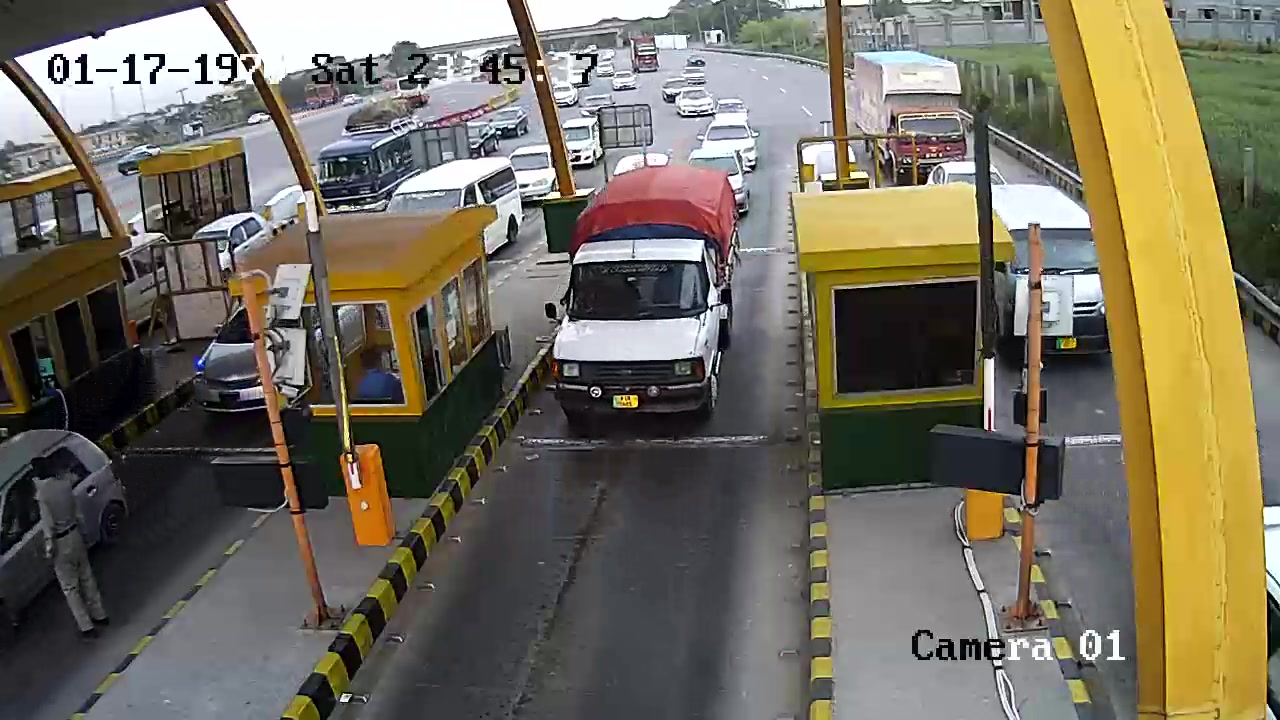F3: (551, 167, 754, 438)
